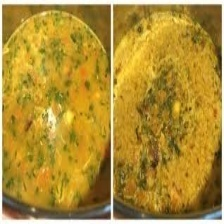dal: (3, 8, 112, 212)
